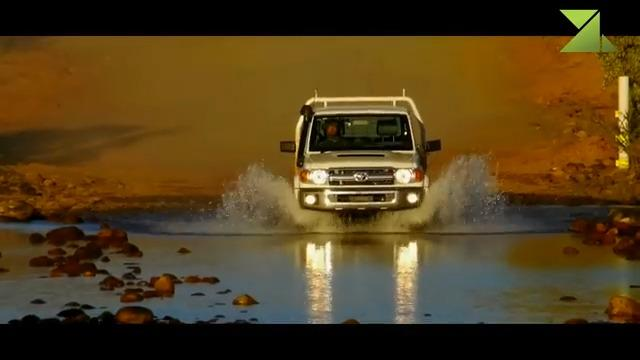MIL_HMMWV: (278, 92, 442, 212)
